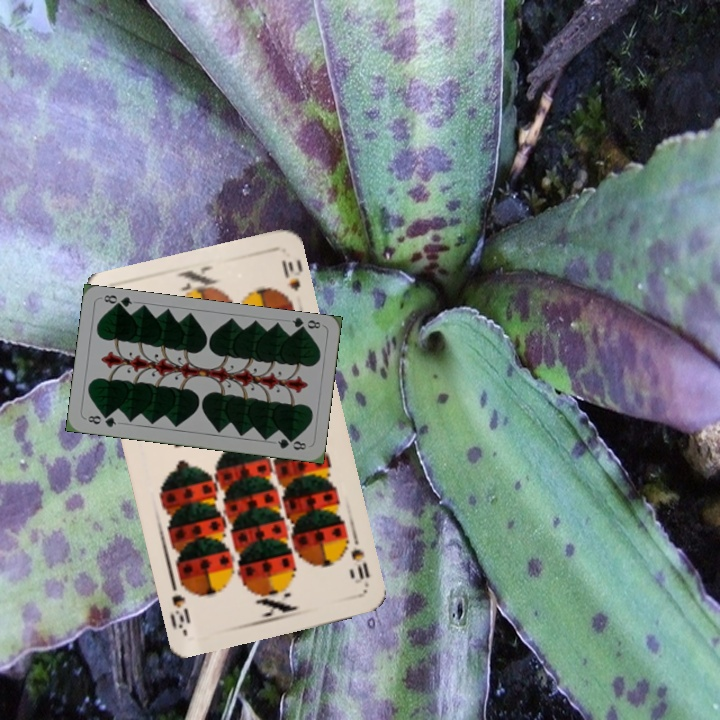G8: (288, 314, 323, 335), (84, 411, 119, 430)
S10: (347, 545, 372, 582)
